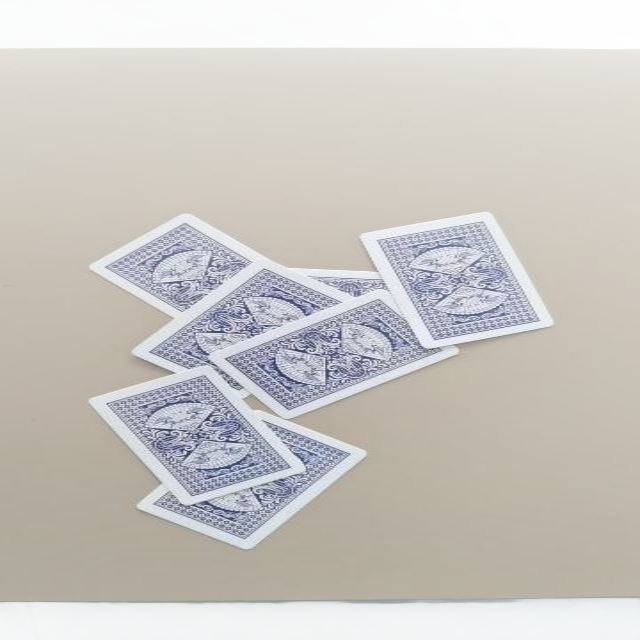card: (209, 290, 458, 418), (138, 410, 367, 549), (89, 366, 304, 505), (360, 212, 553, 348), (133, 259, 351, 371), (89, 214, 264, 316), (293, 269, 387, 296)
